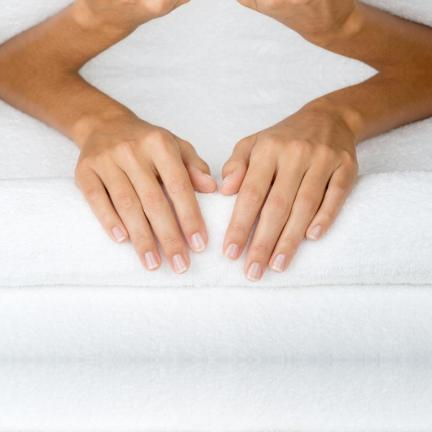Nail: (171, 253, 188, 273), (190, 231, 206, 251), (246, 262, 262, 281), (144, 251, 159, 269), (272, 252, 286, 271), (224, 242, 239, 259), (111, 225, 126, 241), (219, 173, 232, 190), (308, 224, 322, 239)
